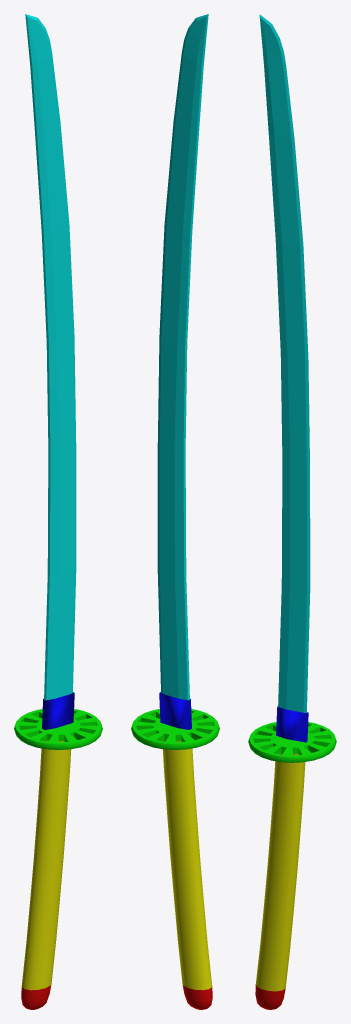
File: katana_unity 1.fbx
3 views of the same model, side by side, from view 1: azimuth 30°, elevation 25°; view 2: azimuth 150°, elevation 25°; view 3: azimuth 330°, elevation 25° (orthographic).
Parts seen in each view (by area): view 1: Blade_lo, grip_lo, crossguard_lo, Rainguard_lo; view 2: Blade_lo, grip_lo, crossguard_lo, Rainguard_lo; view 3: Blade_lo, grip_lo, crossguard_lo, Rainguard_lo.
Boxes of the visible parts, x1,y1,x2,y2 form: Blade_lo: (25, 14, 76, 700); grip_lo: (21, 740, 71, 1009); crossguard_lo: (14, 709, 102, 749); Rainguard_lo: (42, 692, 74, 729); Blade_lo: (157, 14, 208, 700); grip_lo: (162, 740, 212, 1009); crossguard_lo: (131, 709, 219, 749); Rainguard_lo: (159, 692, 191, 729); Blade_lo: (259, 14, 310, 712); grip_lo: (255, 753, 305, 1009); crossguard_lo: (248, 722, 336, 762); Rainguard_lo: (276, 706, 308, 742).
Size of the model in its own units: 0.3905 by 4.83 by 0.3905.
